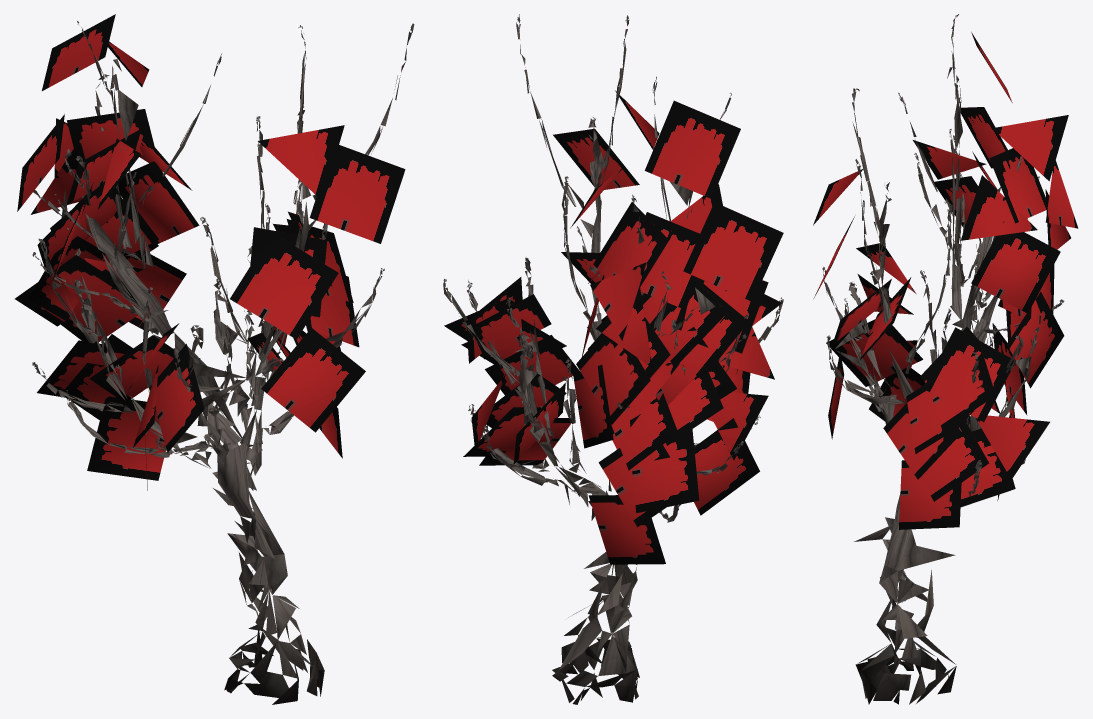
The model's file is pohon-3.glb.
3 views of the same model, side by side, from view 1: azimuth 30°, elevation 25°; view 2: azimuth 150°, elevation 25°; view 3: azimuth 270°, elevation 25° (orthographic). The views are drawn at different scales.
Visible parts, largest first — view 1: TwistedTree_2; view 2: TwistedTree_2; view 3: TwistedTree_2.
Part boxes in pixels (<box>): TwistedTree_2: <box>15,14,414,704</box>; TwistedTree_2: <box>443,14,783,704</box>; TwistedTree_2: <box>813,14,1078,704</box>.
Bounding box in the file's own units: 4.81 × 9.44 × 3.75.
Materials: 2 (2 with a texture image).
